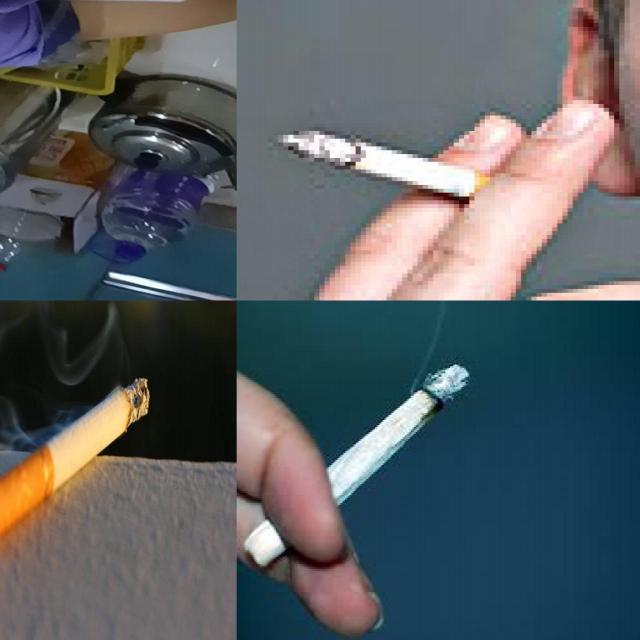smoke: (244, 362, 471, 569), (0, 376, 150, 538), (275, 127, 529, 210)
